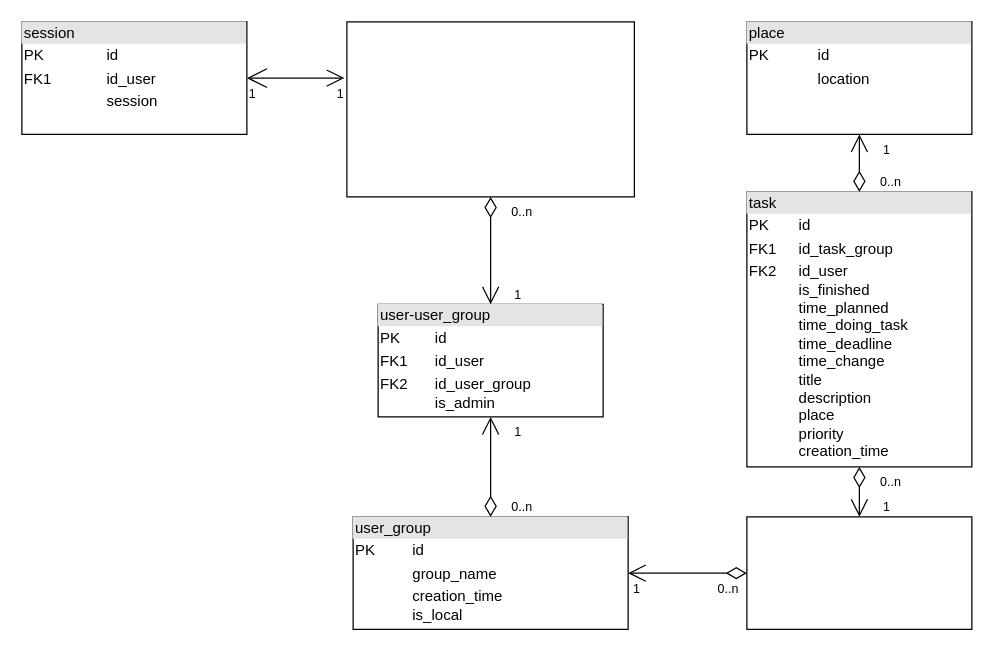
The diagram is 994 pixels wide and 651 high, and some of its shapes have lost their labels. The box of each missing label's shape, as (x1, y1, x2, y2) in pixels:
task_group PK id FK1 id_user_group name creation_time: (746, 516, 972, 629)
user PK id : INT username last_name first_name patronymic password creation_time: (346, 21, 634, 197)
